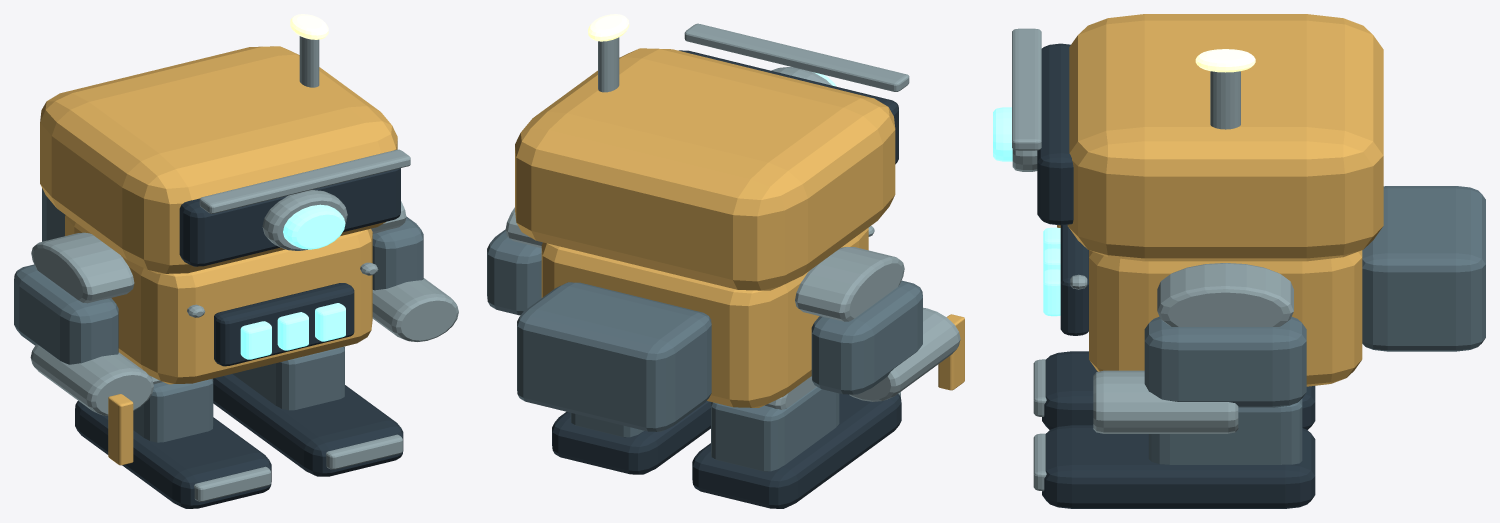
Rendered from SM_Scintilla.fbx.
The picture shows the model from 3 angles, left to right: view 1: azimuth 30°, elevation 25°; view 2: azimuth 150°, elevation 25°; view 3: azimuth 270°, elevation 25°; orthographic projection. The views are drawn at different scales.
Parts seen in each view (by area): view 1: SM_Scintilla; view 2: SM_Scintilla; view 3: SM_Scintilla.
Boxes of the visible parts, x1=… form: SM_Scintilla: x1=14, y1=14, x2=458, y2=508; SM_Scintilla: x1=487, y1=14, x2=964, y2=508; SM_Scintilla: x1=993, y1=14, x2=1485, y2=508.
Size of the model in its own units: 100 by 100 by 100.
